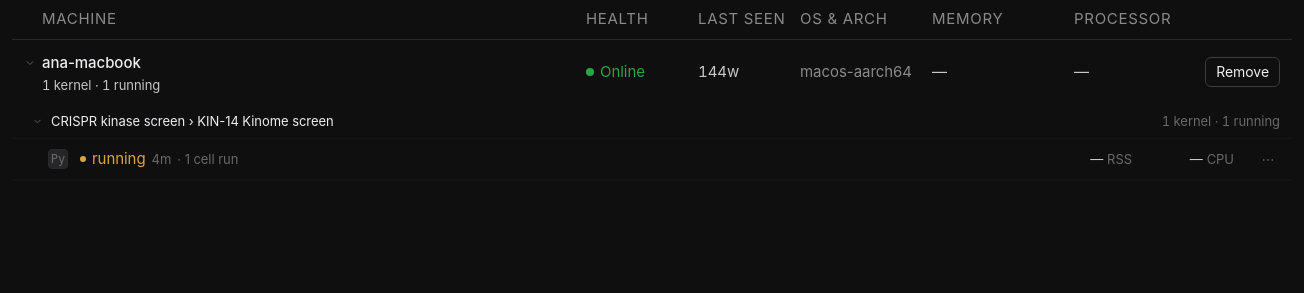
Test case: backs out of a stop on Esc without ending anything
Click the button named "Actions for the Py kernel".
click(1268, 159)  # box [1256,147,1280,171]
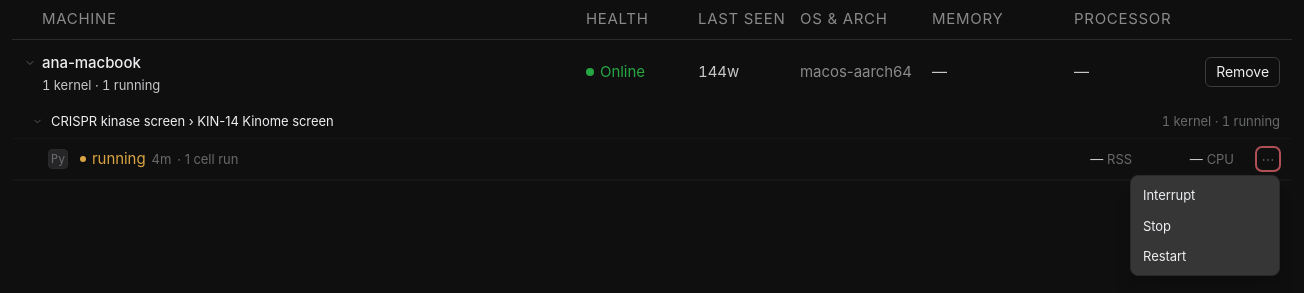
Click the menu item "Stop".
click(1205, 226)  # box [1135,211,1275,241]
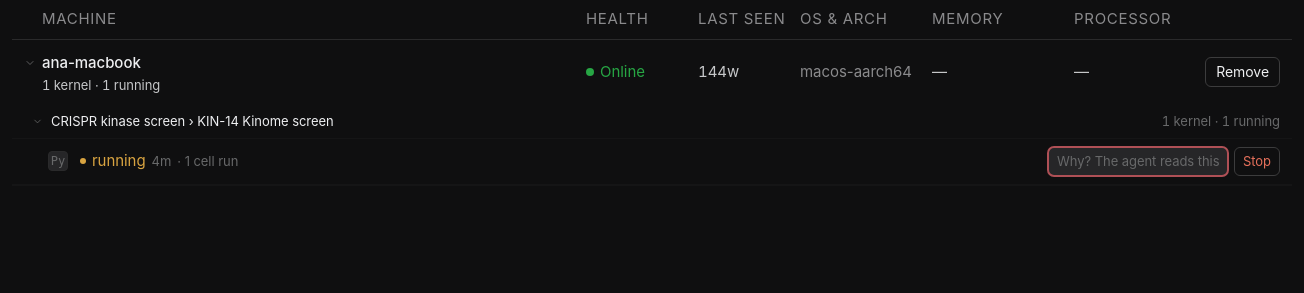
Type "second thoughts" into the field named "Why the Py kernel is being stopped".
click(1138, 162); type("second thoughts")  # box [1048,147,1228,176]
Then press Escape
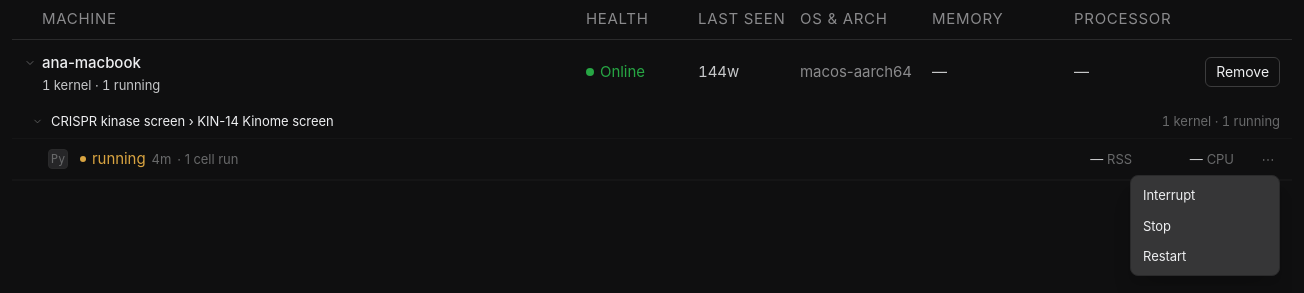
Expected: the button named "Actions for the Py kernel" is shown, [1256,147,1280,171]
